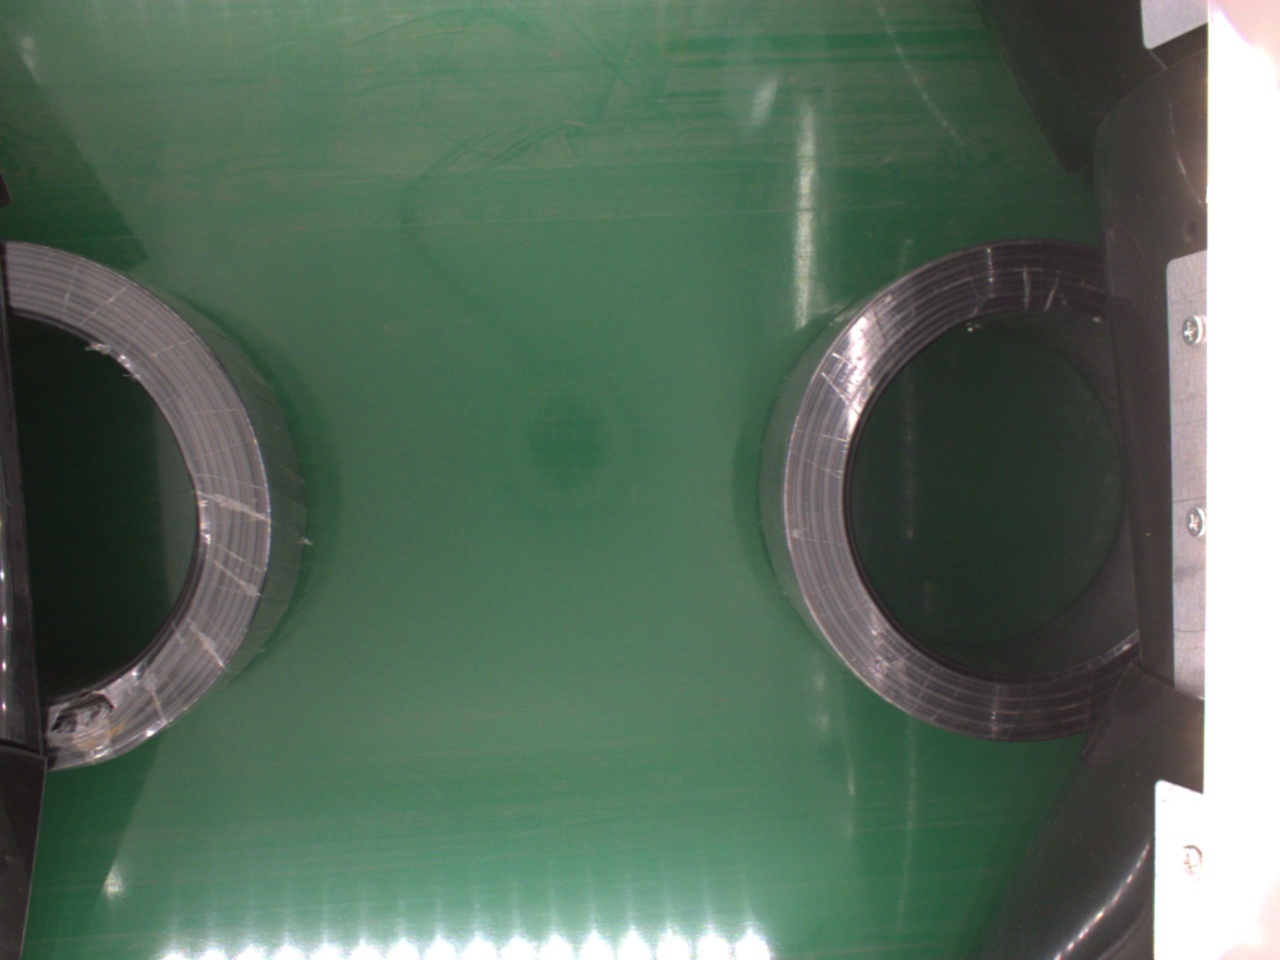black: (759, 241, 1168, 743), (10, 238, 304, 779)
